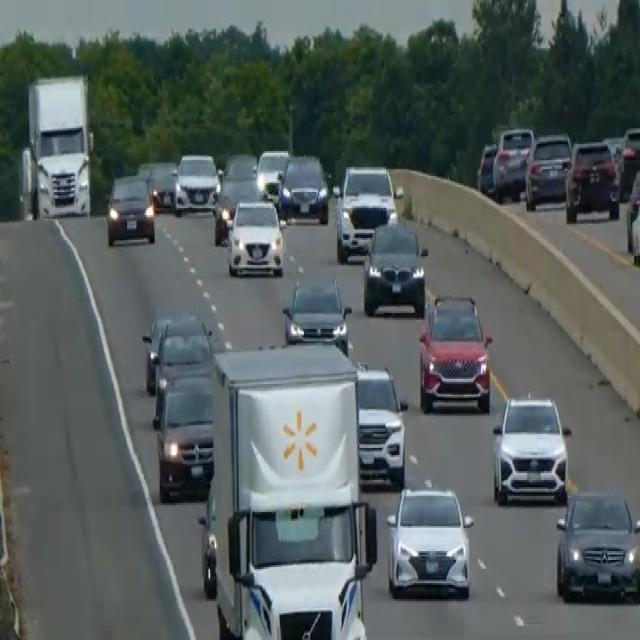car: (385, 484, 473, 599), (555, 487, 639, 603), (417, 292, 493, 414), (491, 393, 570, 505), (152, 370, 214, 501), (354, 363, 406, 489), (362, 218, 427, 316), (333, 164, 398, 262), (282, 270, 352, 356), (151, 311, 213, 402), (225, 198, 284, 278), (564, 139, 620, 222), (212, 151, 258, 244), (524, 132, 573, 210), (106, 172, 156, 245), (279, 151, 329, 224), (492, 124, 534, 201), (173, 151, 219, 213), (141, 311, 171, 391), (137, 158, 177, 212), (255, 148, 289, 206), (220, 151, 257, 197), (617, 125, 639, 198), (625, 166, 639, 262), (476, 140, 497, 196), (630, 190, 639, 267)
lorry: (199, 340, 378, 638), (18, 71, 94, 221)
